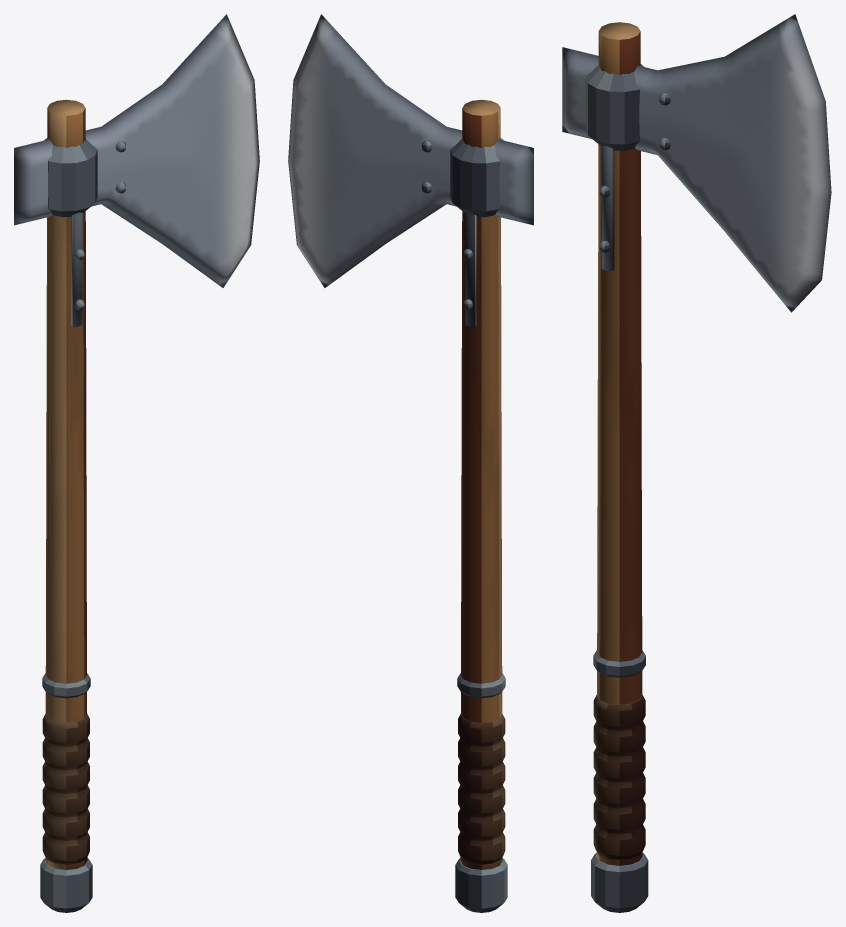
File: tl_axe_iron.glb
3 views of the same model, side by side, from view 1: azimuth 30°, elevation 25°; view 2: azimuth 150°, elevation 25°; view 3: azimuth 330°, elevation 25° (orthographic). The views are drawn at different scales.
Visible parts, largest first — view 1: Weapon; view 2: Weapon; view 3: Weapon.
Boxes of the visible parts, x1,y1,x2,y2 form: Weapon: (14, 14, 259, 912); Weapon: (288, 14, 533, 912); Weapon: (562, 14, 831, 912).
Size of the model in its own units: 0.282 by 0.935 by 0.0635.
